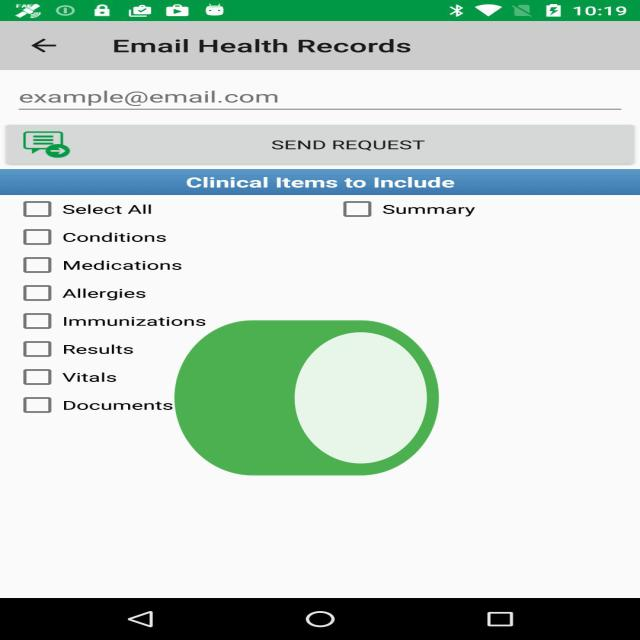social proof: (162, 261, 451, 547)
